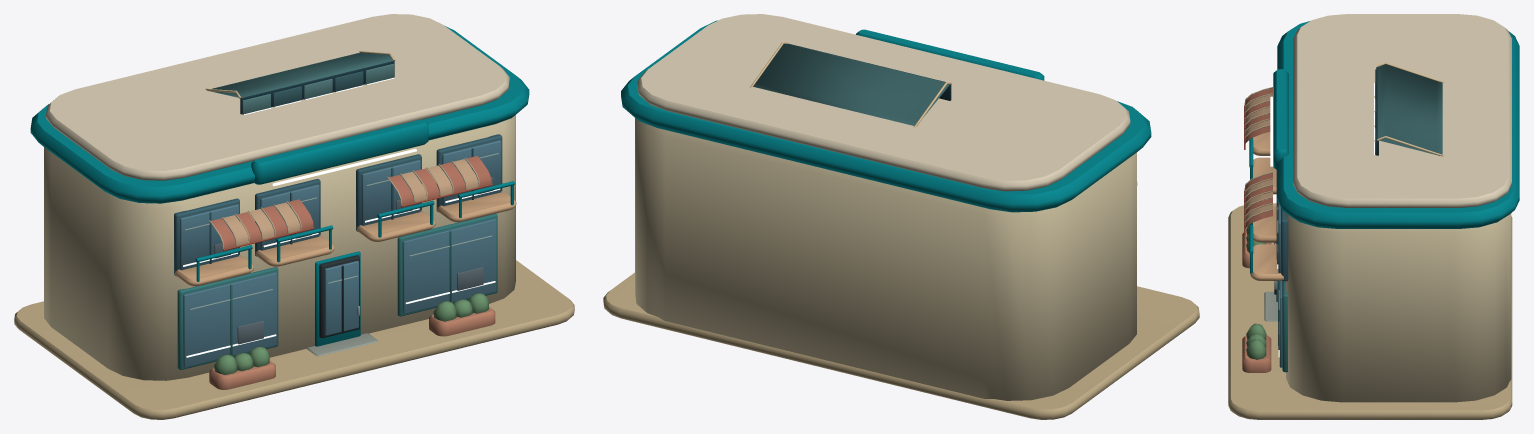
The model's file is ocean_motel.glb.
The picture shows the model from 3 angles, left to right: view 1: azimuth 30°, elevation 25°; view 2: azimuth 150°, elevation 25°; view 3: azimuth 270°, elevation 25°; orthographic projection. The views are drawn at different scales.
Visible parts, largest first — view 1: Motel; view 2: Motel; view 3: Motel.
Boxes of the visible parts, x1,y1,x2,y2 form: Motel: (14,14,574,419); Motel: (603,14,1199,419); Motel: (1228,14,1519,419).
Bounding box in the file's own units: 10.84 × 5.55 × 6.38.
